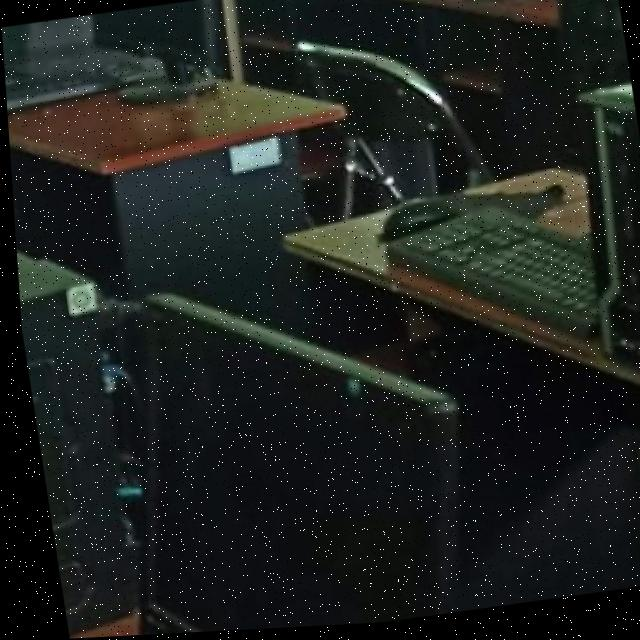offscreen: (117, 295, 449, 636)
